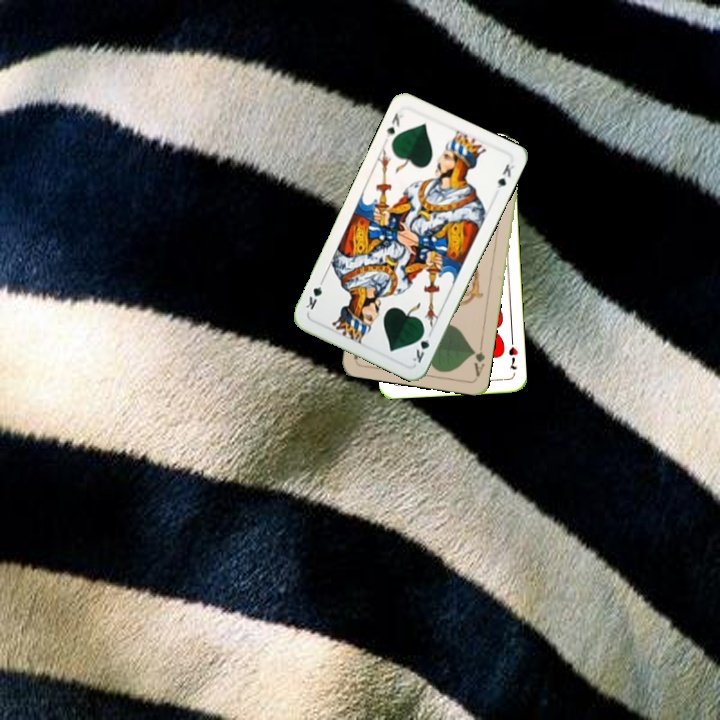GA: (468, 339, 487, 379)
GK: (407, 326, 432, 366), (381, 109, 406, 141)
H7: (504, 343, 520, 372)
